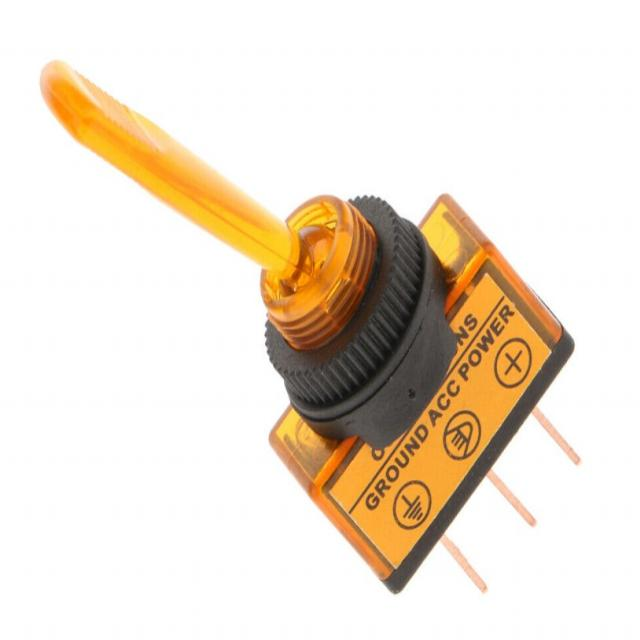toggle switch: (36, 55, 431, 408)
